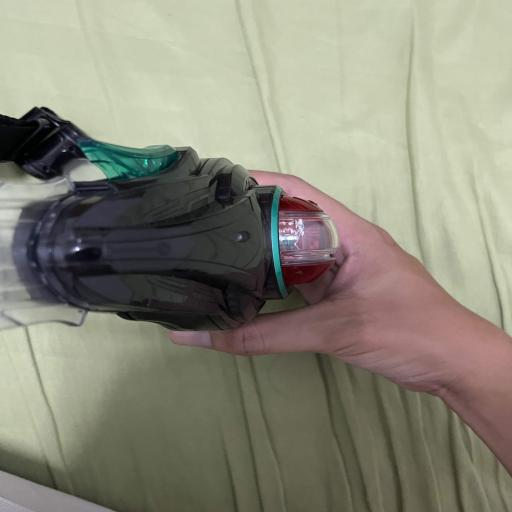zeztzdriver: (0, 108, 339, 331)
